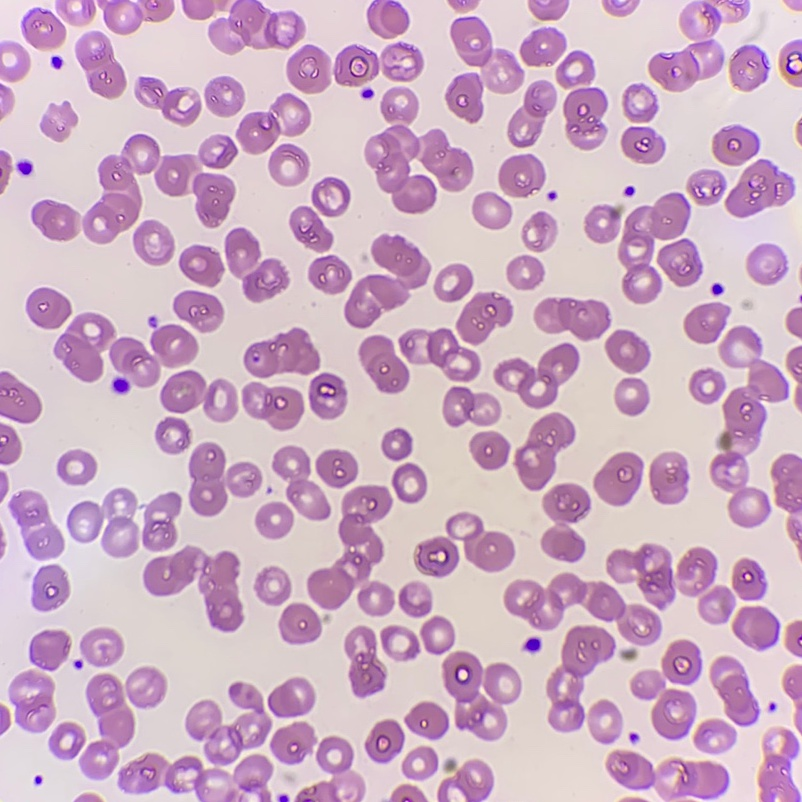RBC: (83, 135, 236, 243), (711, 326, 785, 526), (365, 89, 472, 212), (307, 485, 393, 615), (504, 573, 660, 644), (80, 667, 166, 776), (143, 546, 242, 631), (446, 17, 523, 121), (618, 193, 689, 303), (345, 236, 429, 327), (119, 753, 272, 801), (547, 626, 614, 731), (186, 683, 270, 765), (443, 651, 520, 739), (649, 0, 722, 91), (414, 513, 514, 576), (607, 750, 726, 801), (110, 325, 197, 390), (494, 343, 578, 407), (189, 443, 260, 515), (209, 0, 304, 53), (69, 488, 138, 556), (515, 413, 574, 490), (225, 228, 287, 301), (631, 670, 695, 738), (237, 94, 310, 153), (607, 544, 673, 607), (399, 329, 480, 380), (273, 446, 329, 519), (55, 313, 114, 381), (296, 737, 357, 801), (161, 370, 236, 421), (726, 160, 792, 216), (244, 328, 319, 377), (542, 484, 589, 561), (11, 491, 63, 557), (508, 81, 556, 147), (711, 657, 757, 724), (534, 298, 609, 339), (77, 33, 125, 97), (135, 78, 200, 125), (359, 335, 408, 393), (345, 627, 386, 696), (9, 670, 55, 731), (457, 292, 512, 343), (759, 730, 798, 801), (243, 383, 303, 429), (563, 88, 606, 149), (594, 452, 642, 505), (98, 0, 173, 33), (438, 759, 492, 801), (142, 492, 181, 550), (443, 387, 499, 425), (287, 45, 330, 93), (0, 372, 41, 422), (174, 291, 223, 331), (658, 240, 700, 286), (31, 200, 79, 239), (499, 155, 544, 196), (650, 452, 686, 503), (290, 207, 332, 250), (606, 330, 649, 372), (733, 607, 777, 648), (27, 288, 71, 328), (684, 303, 728, 343), (334, 46, 379, 85), (268, 678, 314, 716), (772, 454, 801, 514), (678, 548, 715, 595), (134, 220, 173, 264), (712, 127, 757, 165), (272, 722, 314, 762), (309, 373, 346, 418), (280, 603, 321, 643), (180, 246, 222, 285), (662, 640, 700, 683), (269, 144, 308, 185), (729, 47, 766, 90), (33, 565, 69, 609), (30, 630, 70, 669), (367, 0, 408, 38), (316, 449, 357, 487), (381, 44, 423, 81), (81, 628, 123, 665), (366, 719, 403, 761), (205, 77, 244, 116), (309, 256, 350, 293), (406, 702, 448, 738), (521, 30, 564, 65), (24, 12, 65, 48), (622, 127, 663, 163), (747, 245, 784, 284), (470, 432, 509, 469), (312, 178, 349, 216), (588, 701, 622, 742), (435, 264, 472, 301), (556, 51, 593, 87), (473, 192, 510, 228), (255, 567, 290, 605), (392, 463, 426, 502), (256, 502, 292, 538), (58, 450, 96, 484), (381, 626, 419, 660), (586, 206, 621, 242), (523, 213, 556, 251), (695, 720, 734, 752), (687, 170, 722, 205), (156, 417, 190, 453), (615, 378, 648, 415), (421, 617, 454, 654), (42, 105, 76, 140), (50, 722, 84, 757), (623, 85, 656, 121), (507, 256, 543, 289), (699, 587, 731, 623), (733, 559, 762, 598), (690, 369, 723, 403), (783, 666, 801, 728), (399, 582, 431, 616), (0, 44, 29, 81), (403, 747, 437, 778), (382, 429, 412, 460), (0, 424, 21, 463), (183, 0, 226, 19), (529, 0, 568, 20), (391, 785, 425, 801), (603, 0, 637, 15), (786, 621, 801, 655), (780, 44, 801, 67), (787, 347, 801, 381), (59, 2, 79, 24), (0, 151, 11, 189), (0, 85, 13, 116), (787, 308, 801, 336), (449, 0, 477, 11), (81, 0, 94, 20), (0, 705, 9, 732), (788, 519, 801, 537), (787, 71, 801, 86), (620, 649, 636, 660), (77, 793, 99, 801), (527, 637, 538, 649), (735, 4, 744, 18), (0, 472, 7, 486), (796, 387, 801, 405), (797, 122, 801, 139), (712, 284, 720, 292), (787, 0, 796, 5), (0, 541, 4, 552), (0, 488, 4, 496)
